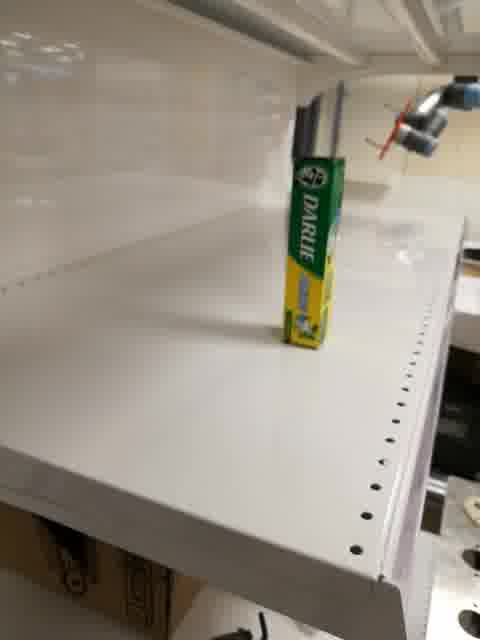toothpaste: (282, 156, 347, 351)
